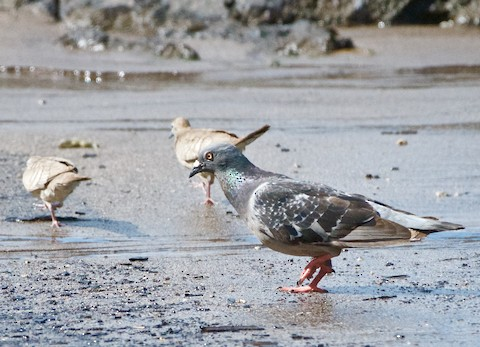pigeon: (182, 140, 465, 297), (163, 111, 272, 205), (20, 153, 93, 230)
